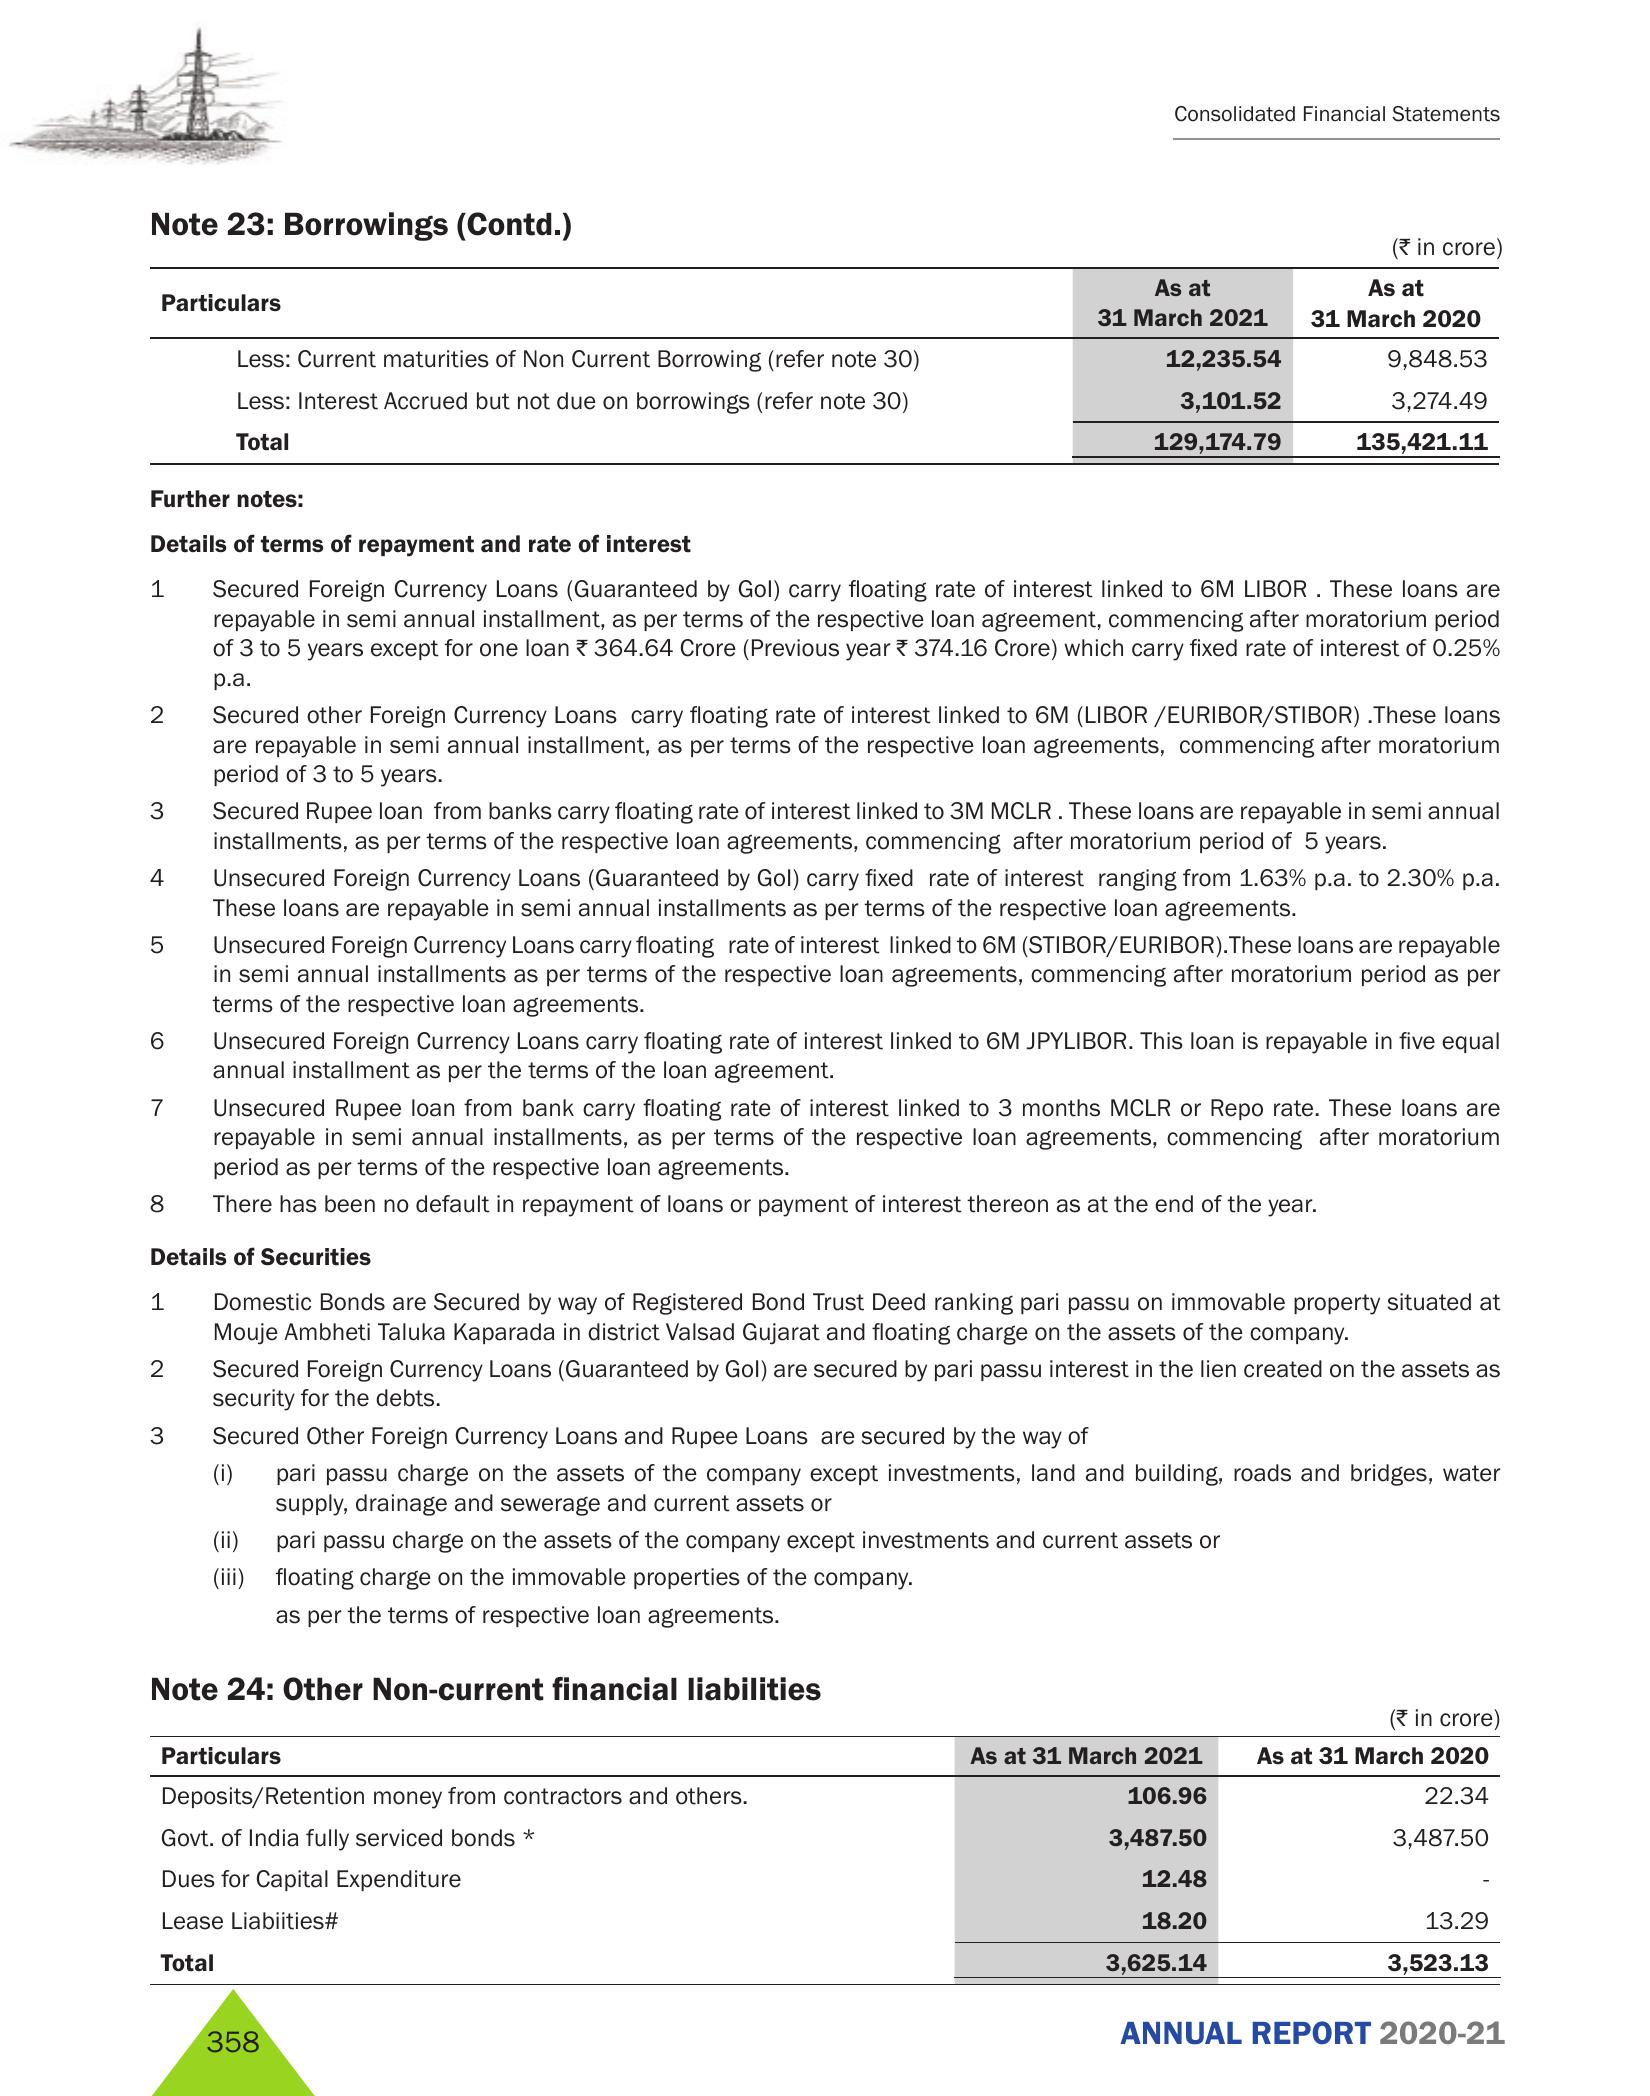Footer: (0, 1974, 1650, 2096)
Header: (0, 0, 1650, 168)
Table: (122, 1696, 1511, 1979), (111, 260, 1521, 481)
